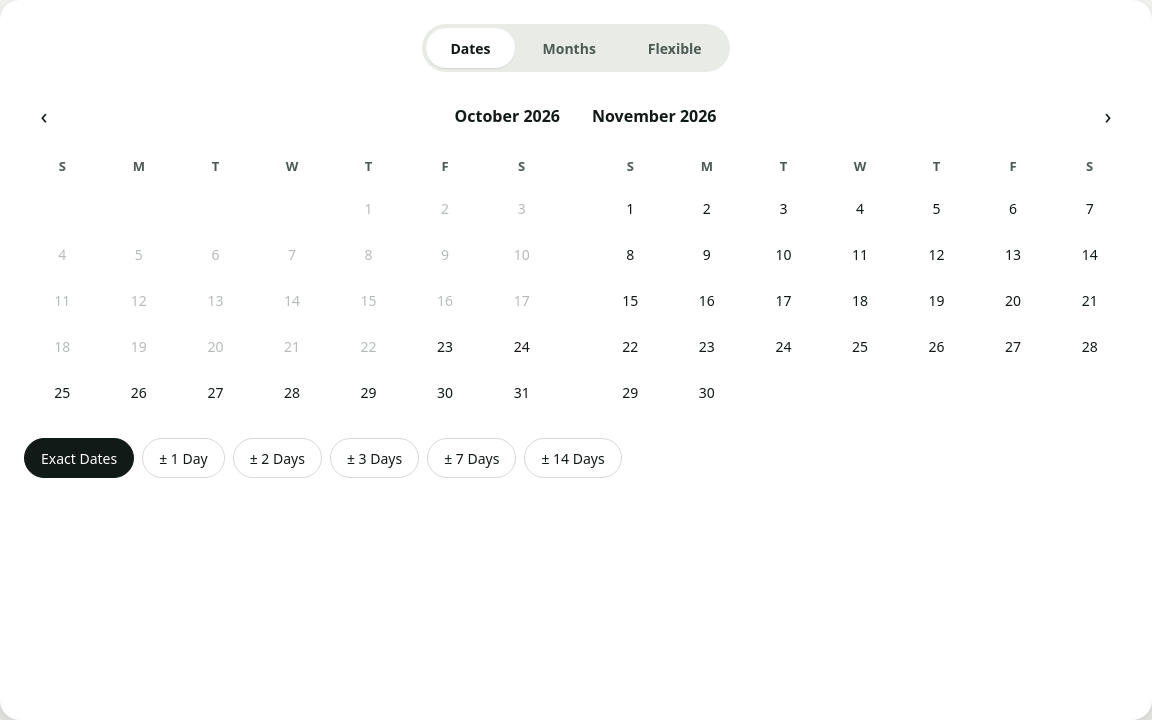
Test: DatePickerPanel « Mois » mode › English labels
The image size is (1152, 720).
Click the button "Months" at (569, 48), box 518,28 -> 620,68
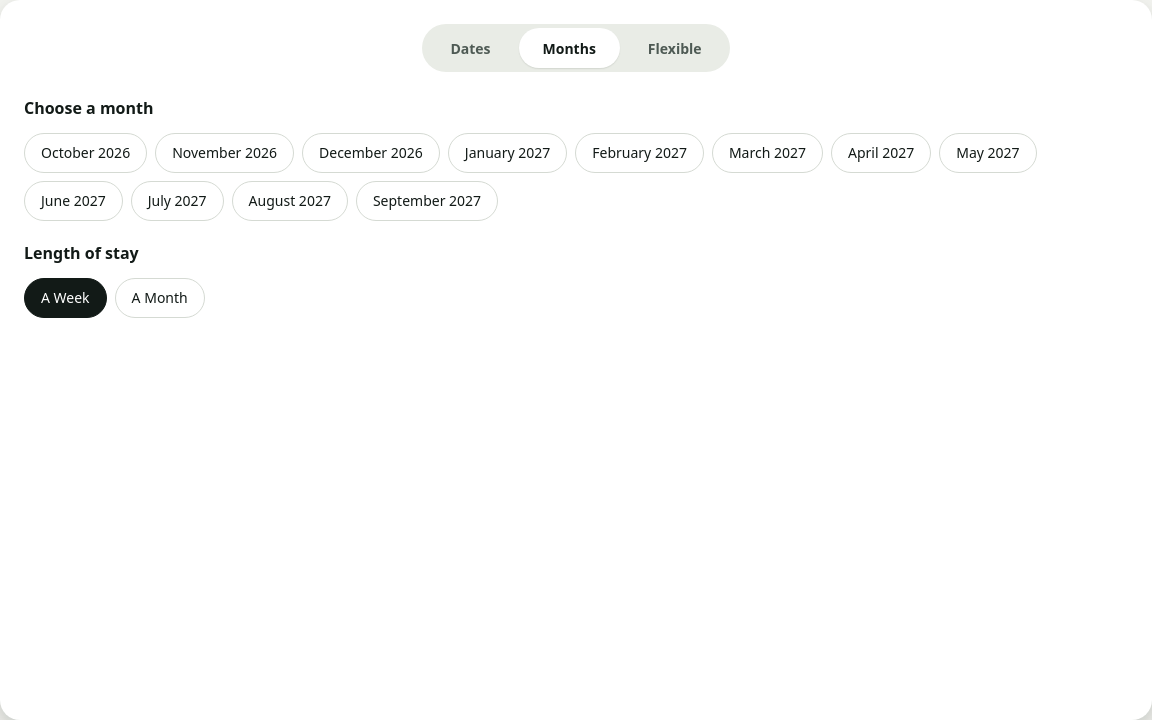
Check: the element named "Choose a month" is shown, box 24,133 -> 1128,221
Check: the button "A week" is shown, box 24,278 -> 107,318
